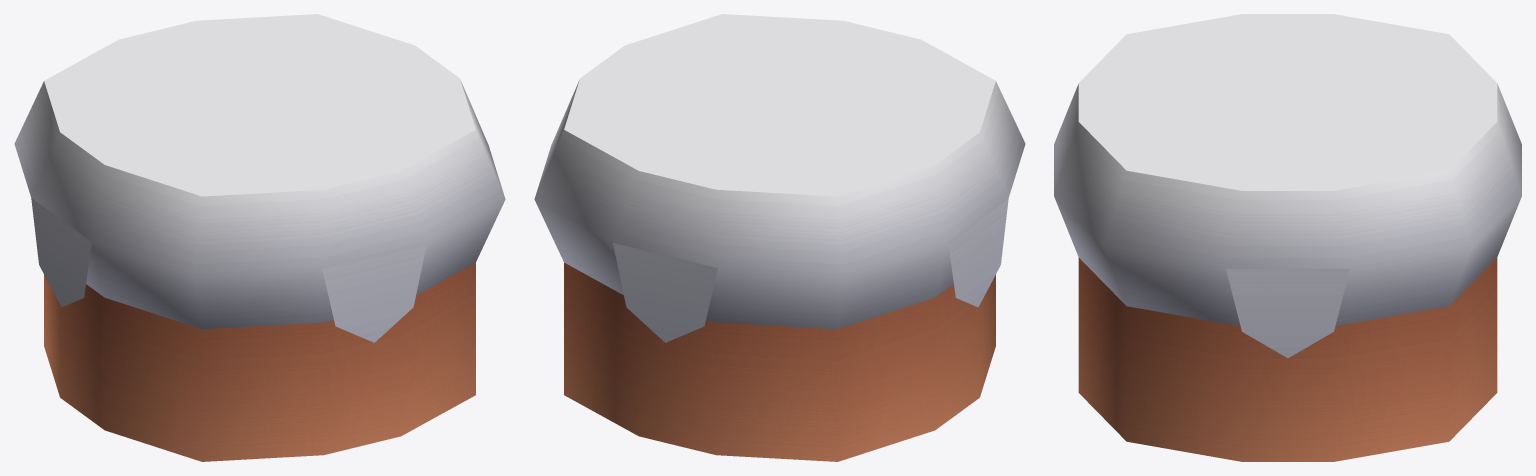
The model's file is block-snow-overhang-low-narrow.glb.
The picture shows the model from 3 angles, left to right: view 1: azimuth 30°, elevation 25°; view 2: azimuth 150°, elevation 25°; view 3: azimuth 270°, elevation 25°; orthographic projection. The views are drawn at different scales.
Parts seen in each view (by area): view 1: block-snow-overhang-low-narrow; view 2: block-snow-overhang-low-narrow; view 3: block-snow-overhang-low-narrow.
Boxes of the visible parts, <box> form: block-snow-overhang-low-narrow: <box>14,14,505,461</box>; block-snow-overhang-low-narrow: <box>534,14,1025,461</box>; block-snow-overhang-low-narrow: <box>1054,14,1521,461</box>.
Bounding box in the file's own units: 0.7821 × 0.5 × 0.7821.
Materials: 1 (1 with a texture image).
